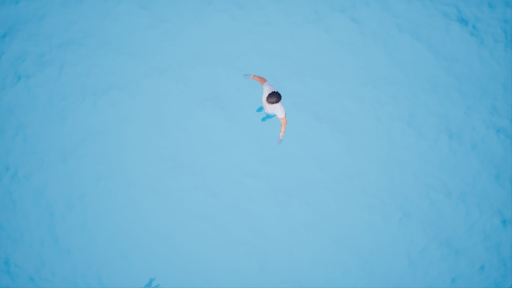person: (240, 72, 292, 146)
